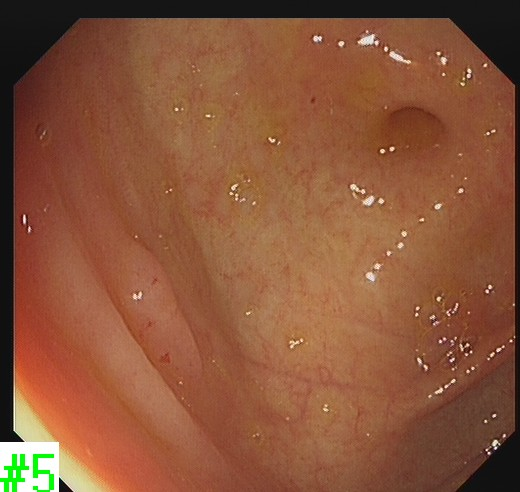adenoma: (95, 232, 205, 379)
